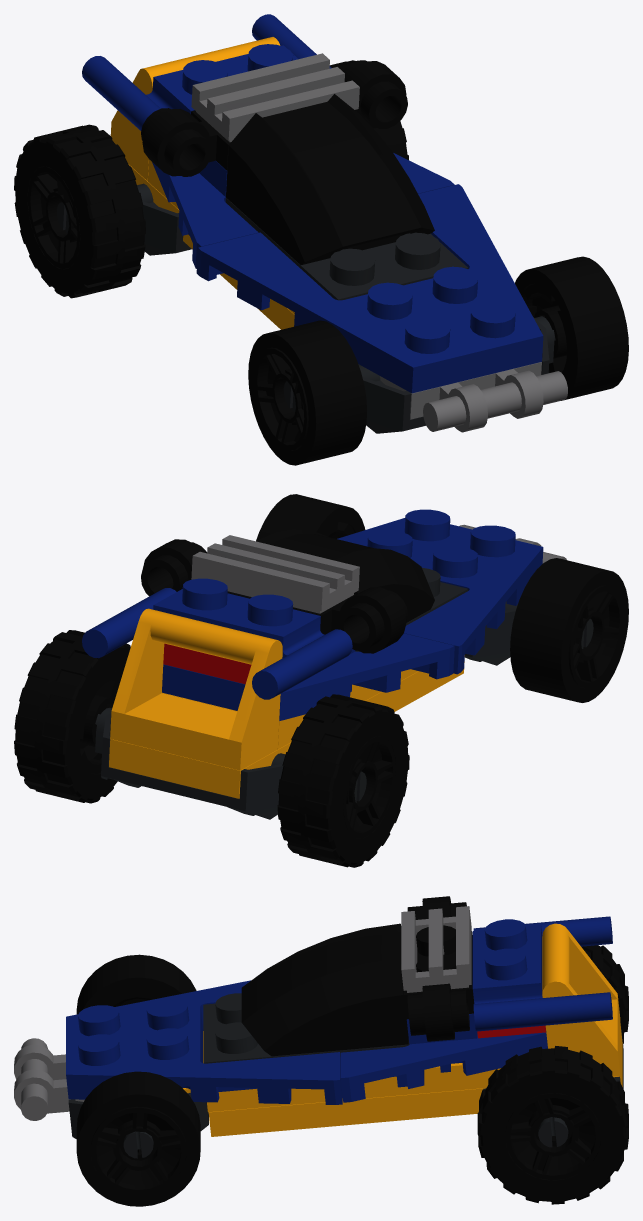
The model's file is 4949-BlueBuggy.fbx.
3 views of the same model, one above another, from view 1: azimuth 30°, elevation 25°; view 2: azimuth 150°, elevation 25°; view 3: azimuth 270°, elevation 25° (orthographic). The views are drawn at different scales.
Parts seen in each view (by area): view 1: Part-43719, Part-30602, Part-92409 Tire-RR, Part-50951 Tire-FR, Part-50944 (×3), Part-50951 Tire-FL, Part-2412, Part-4081 (×2), Part-3839v2, Part-2540, Part-3021, Part-6157 (×2) (+4 smaller); view 2: Part-2432, Part-92409 Tire-RR, Part-43719, Part-92409 Tire-RL, Part-3839v2, Part-50951 Tire-FR, Part-50944 (×3), Part-90194, Part-2412, Part-4081 (×2), Part-6157 (×2), Part-3795 Main (+5 smaller); view 3: Part-43719, Part-30602, Part-92409 Tire-RL, Part-50944 (×3), Part-3839v2, Part-50951 Tire-FL, Part-3795 Main, Part-90194, Part-2432, Part-4081 (×2), Part-2412, Part-3795 (+6 smaller).
Part boxes in pixels (x1,y1,x2,y2): Part-43719: [196, 184, 543, 393]; Part-30602: [226, 94, 434, 264]; Part-92409 Tire-RR: [14, 124, 145, 298]; Part-50951 Tire-FR: [248, 320, 366, 465]; Part-50944 (×3): [27, 166, 570, 450]; Part-50951 Tire-FL: [515, 256, 628, 400]; Part-2412: [191, 53, 359, 142]; Part-4081 (×2): [141, 60, 407, 176]; Part-3839v2: [82, 14, 331, 130]; Part-2540: [380, 362, 567, 432]; Part-3021: [225, 198, 468, 300]; Part-6157 (×2): [57, 183, 555, 433]; Part-2432: [110, 608, 282, 770]; Part-92409 Tire-RR: [277, 694, 409, 867]; Part-43719: [337, 509, 543, 674]; Part-92409 Tire-RL: [14, 630, 130, 803]; Part-3839v2: [82, 578, 352, 699]; Part-50951 Tire-FR: [510, 558, 628, 702]; Part-50944 (×3): [79, 585, 622, 838]; Part-90194: [162, 633, 454, 721]; Part-2412: [191, 535, 359, 613]; Part-4081 (×2): [141, 539, 407, 653]; Part-6157 (×2): [95, 601, 593, 819]; Part-3795 Main: [109, 655, 464, 798]; Part-43719: [66, 980, 342, 1104]; Part-30602: [241, 923, 408, 1056]; Part-92409 Tire-RL: [477, 1046, 628, 1204]; Part-50944 (×3): [90, 990, 601, 1194]; Part-3839v2: [472, 916, 612, 1031]; Part-50951 Tire-FL: [76, 1071, 200, 1206]; Part-3795 Main: [208, 1023, 622, 1136]; Part-90194: [340, 1031, 547, 1102]; Part-2432: [542, 923, 620, 1076]; Part-4081 (×2): [404, 896, 474, 1041]; Part-2412: [401, 906, 471, 992]; Part-3795: [183, 1031, 500, 1112].
Bounding box in the file's own units: 1.52 × 1.02 × 2.81.
